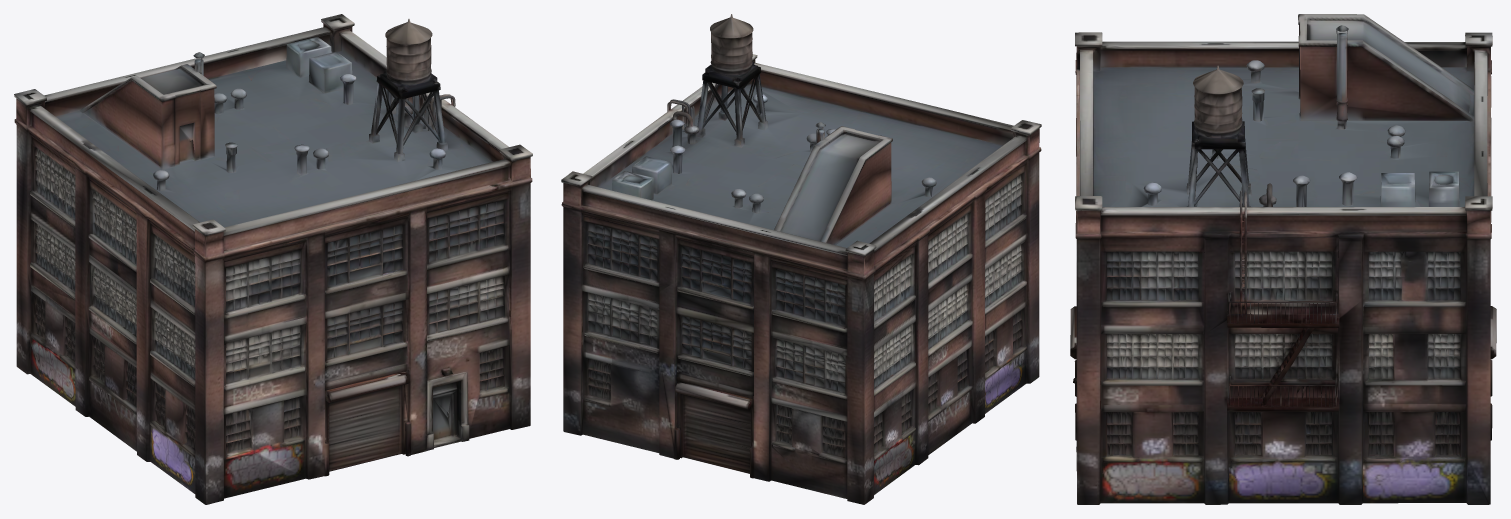
Rendered from graffiti_loft.glb.
3 views of the same model, side by side, from view 1: azimuth 30°, elevation 25°; view 2: azimuth 150°, elevation 25°; view 3: azimuth 270°, elevation 25° (orthographic). The views are drawn at different scales.
Visible parts, largest first — view 1: node_0; view 2: node_0; view 3: node_0.
Boxes of the visible parts, x1,y1,x2,y2 form: node_0: (14,14,532,504); node_0: (561,14,1041,504); node_0: (1070,14,1496,504).
Bounding box in the file's own units: 0.6956 × 0.7263 × 0.6861.
Materials: 1 (1 with a texture image).
